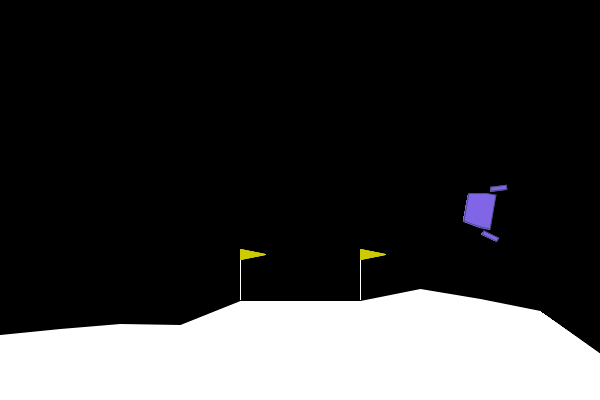lander: (459, 178, 508, 244)
